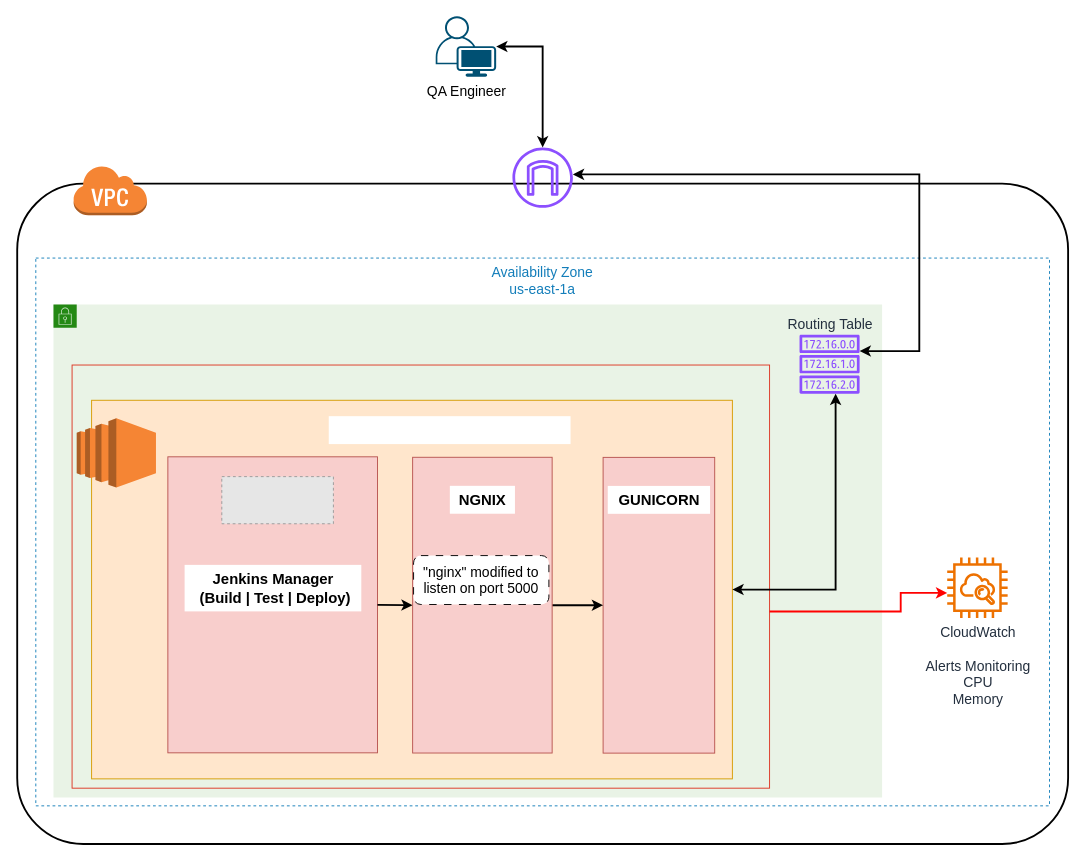
The diagram is 1084 pixels wide and 860 high, and some of its shapes have lost their labels. Grey dashed boxes stand in for pictures. Each missing label, with the box of its shape:
Internet Gateway: (512, 147, 572, 207)
Public subnet A 10.2.0.0/22: (53, 304, 882, 797)
Running stress-ng on instance: (328, 416, 570, 444)
Security group - Ports allowed 22, 5000, 80, 8080, 8000: (71, 364, 770, 788)
